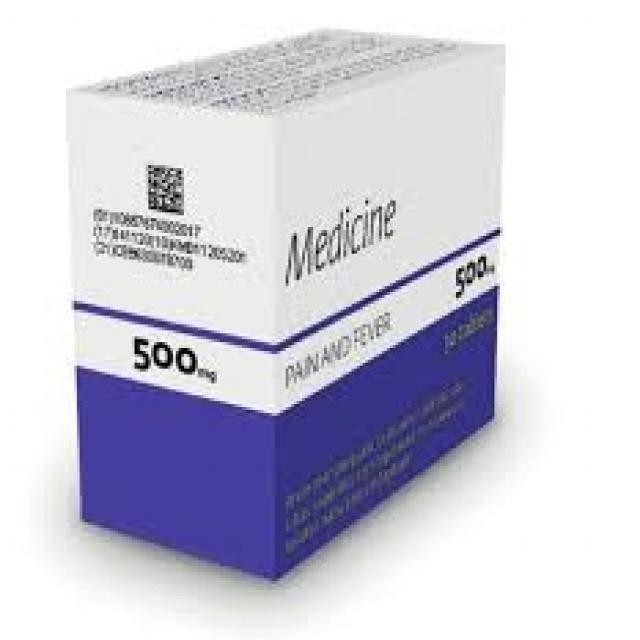datamatrix: (141, 161, 193, 220)
